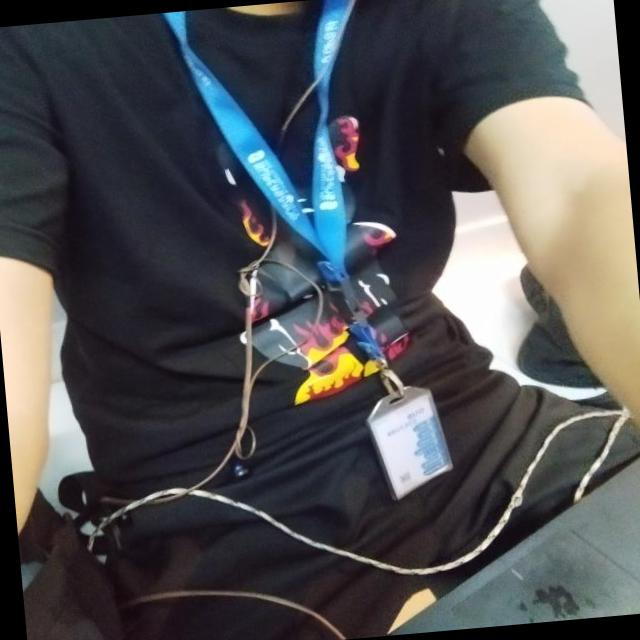id_card: (166, 0, 457, 508)
